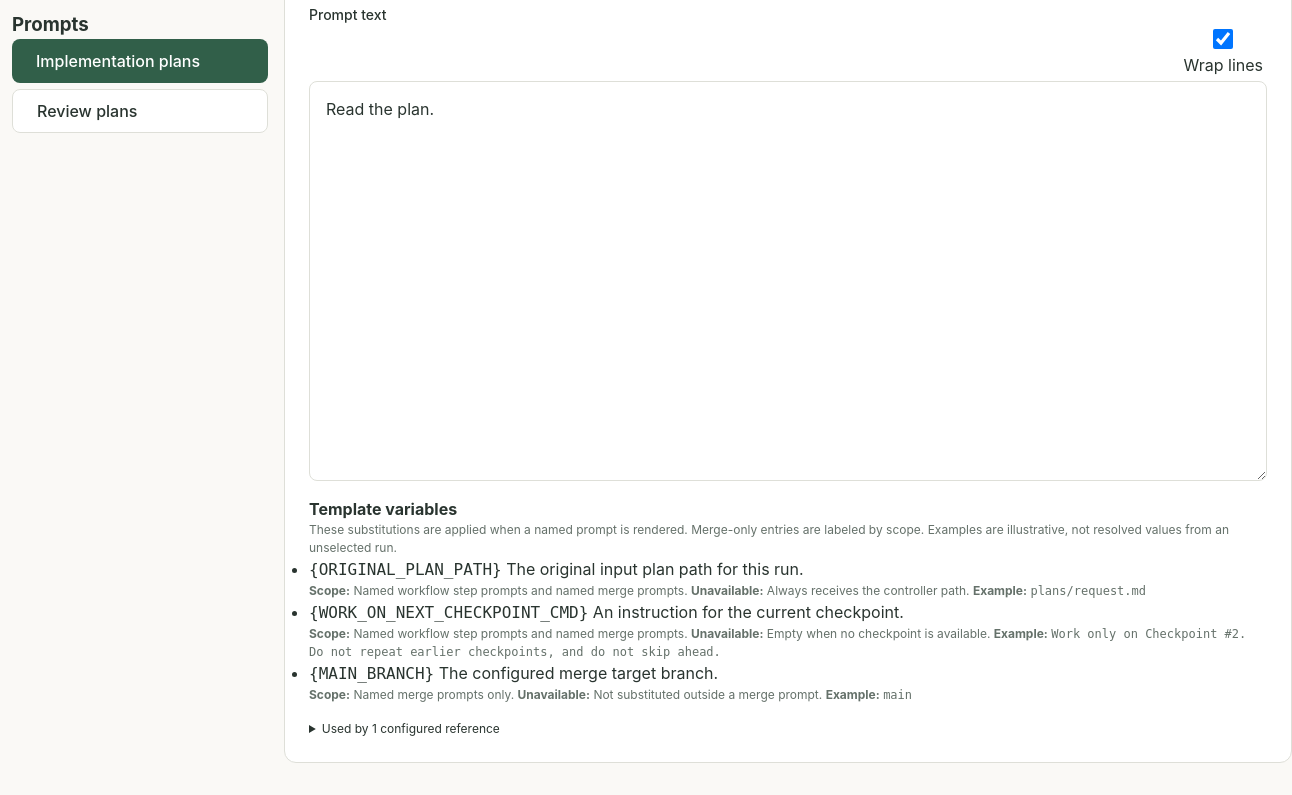
Test: PromptsSettings › offers no deletion for referenced prompts and discloses their usages
The width and height of the screenshot is (1292, 795).
(page scrolled)
Click the heading "Used by 1 configured reference" at (411, 729), box [322,721,500,736]
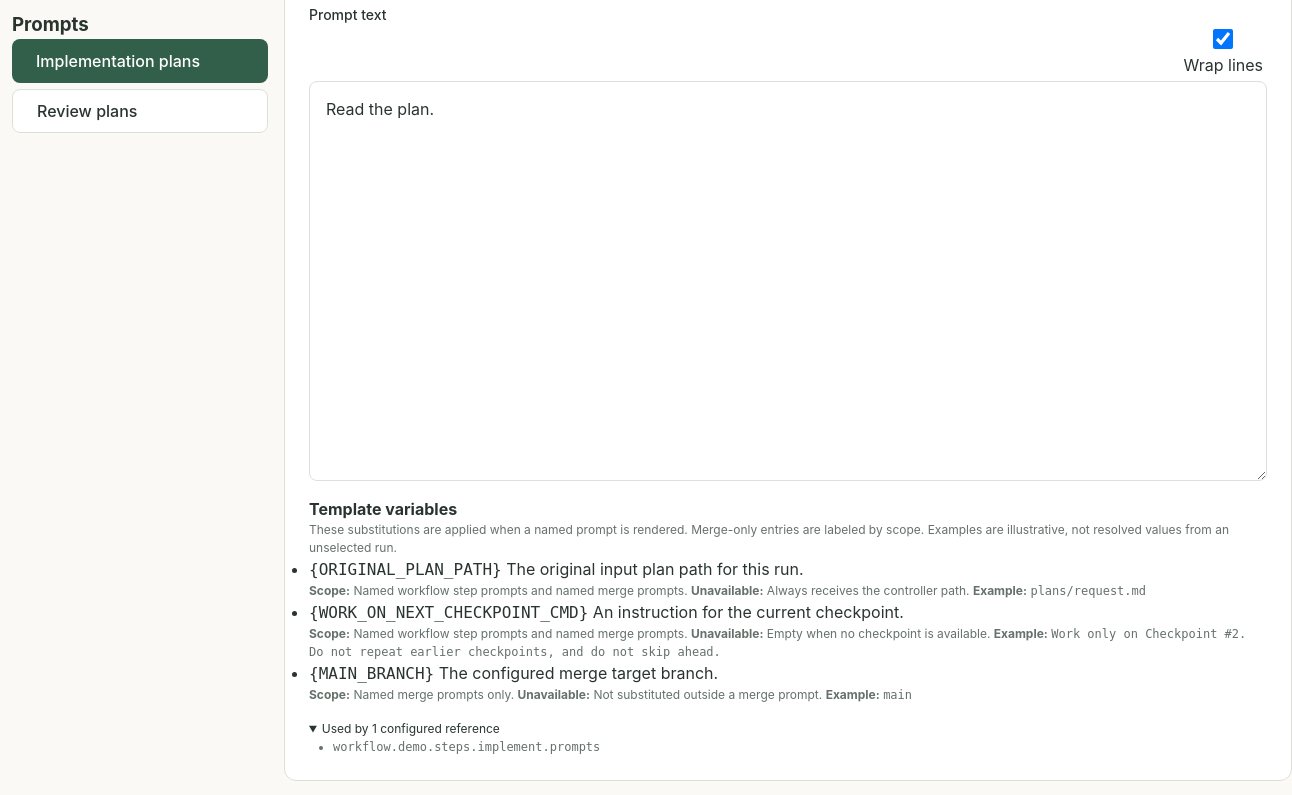
Check: the list item "workflow.demo.steps.implement.prompts" is shown, box [333,740,600,754]
Click the button "Review plans" at (140, 111), box [12,89,268,133]
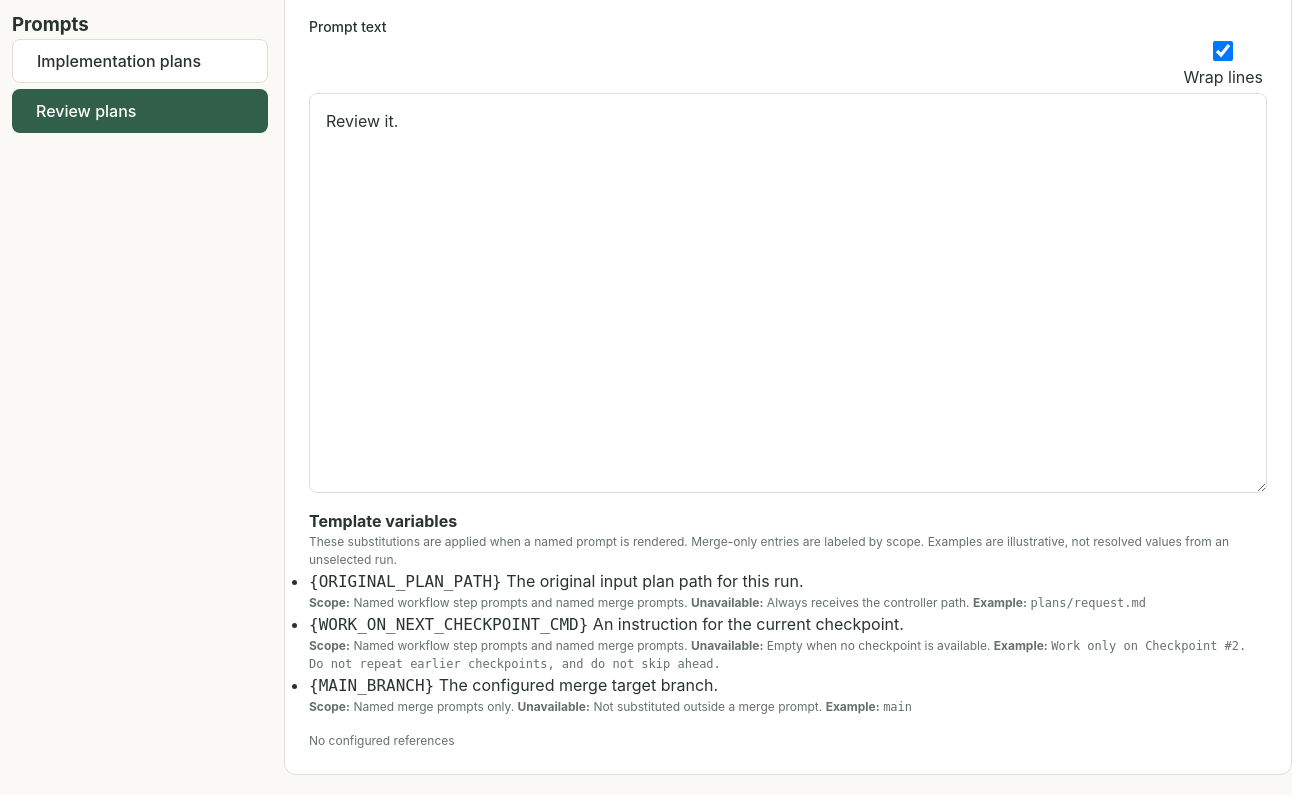
Check: the text "No configured references" is shown, box [309,733,455,748]
